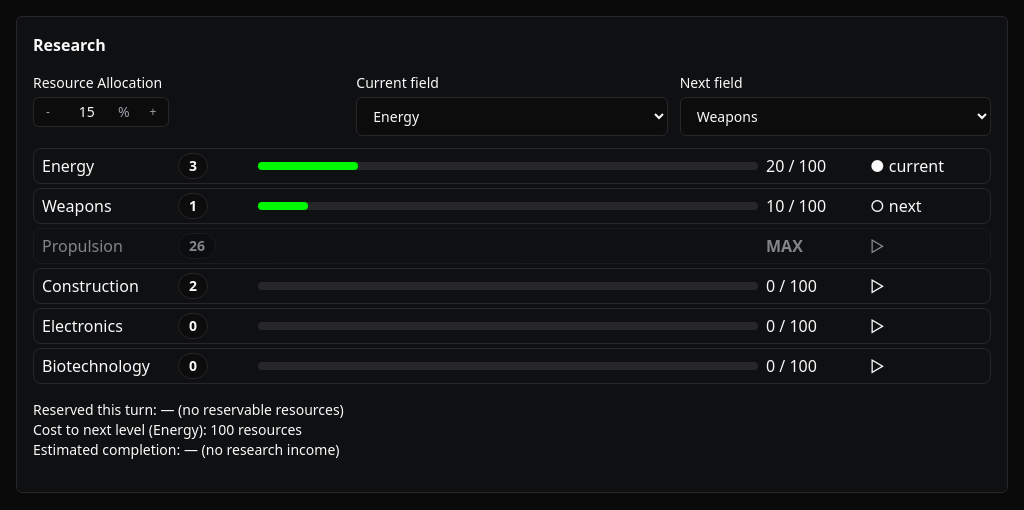
Test: ResearchWorkspace › handles number clamp and no reservable resources
expect the text "Reserved this turn: — (no reservable resources)" is shown: met, box [33,400,344,419]
Replace the text in the number field named "Allocation percent" with "150": (90, 112) [62,98,118,126]
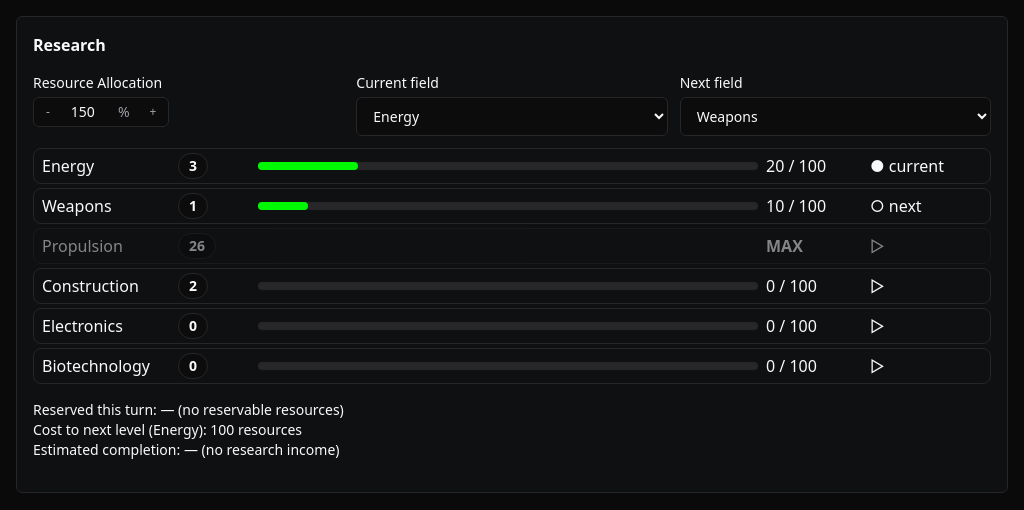
Leave the number field named "Allocation percent", box [62,98,118,126]
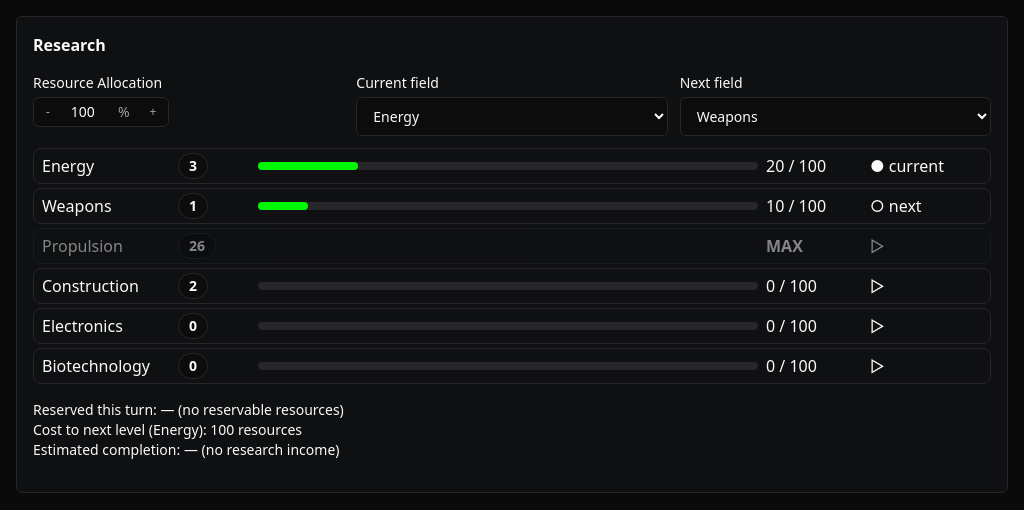
expect the number field named "Allocation percent" holds "100": met, box [62,98,118,126]
